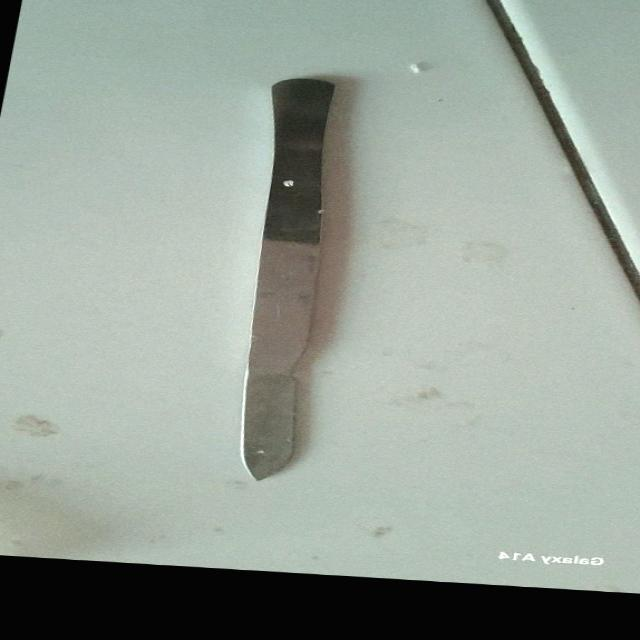Knife: (189, 68, 377, 484)
